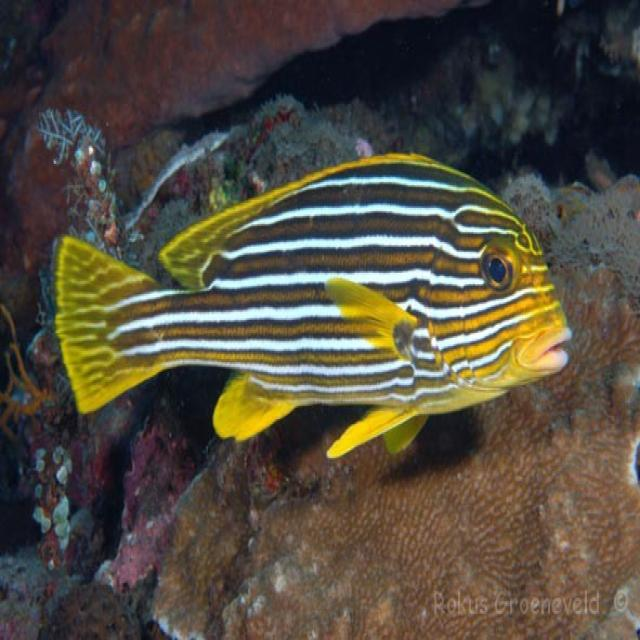RibbonedSweetlips: (51, 149, 573, 460)
